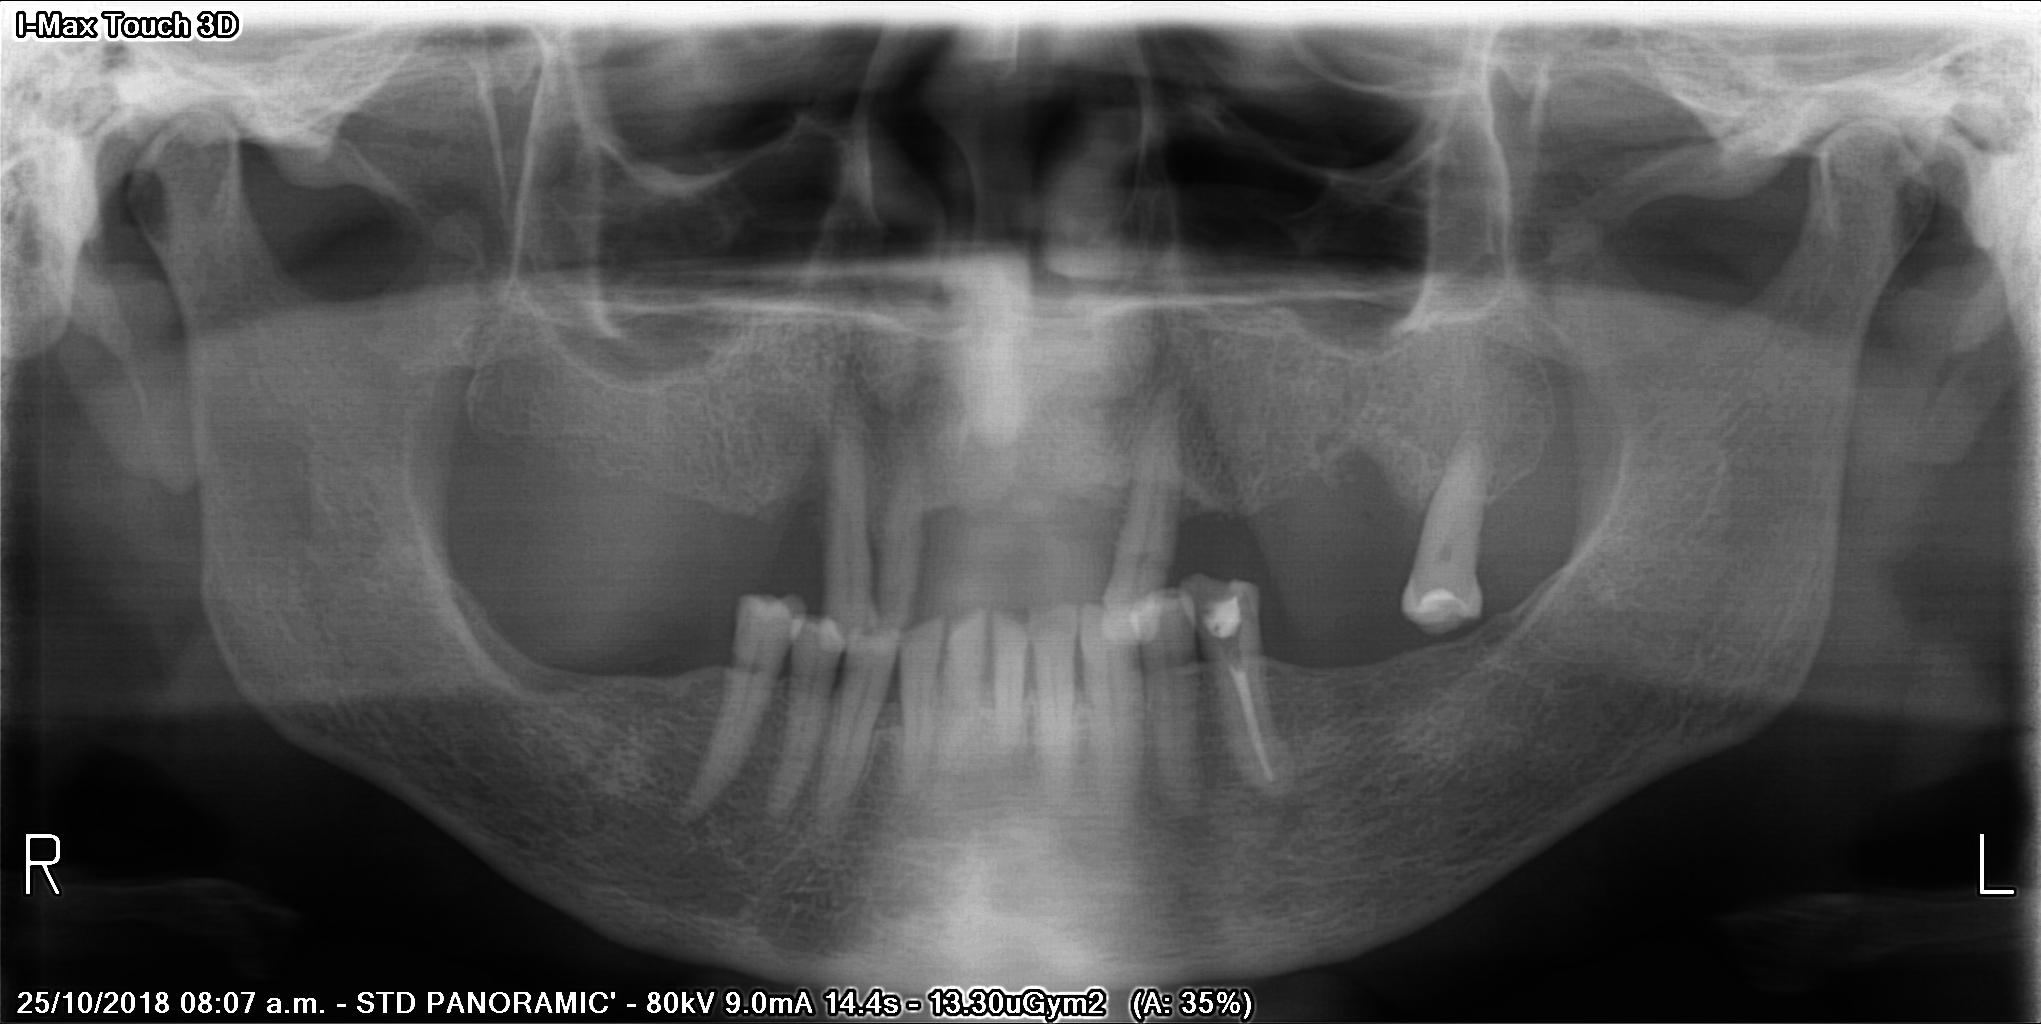Çürük: (1201, 594, 1243, 644), (1418, 583, 1466, 614)
